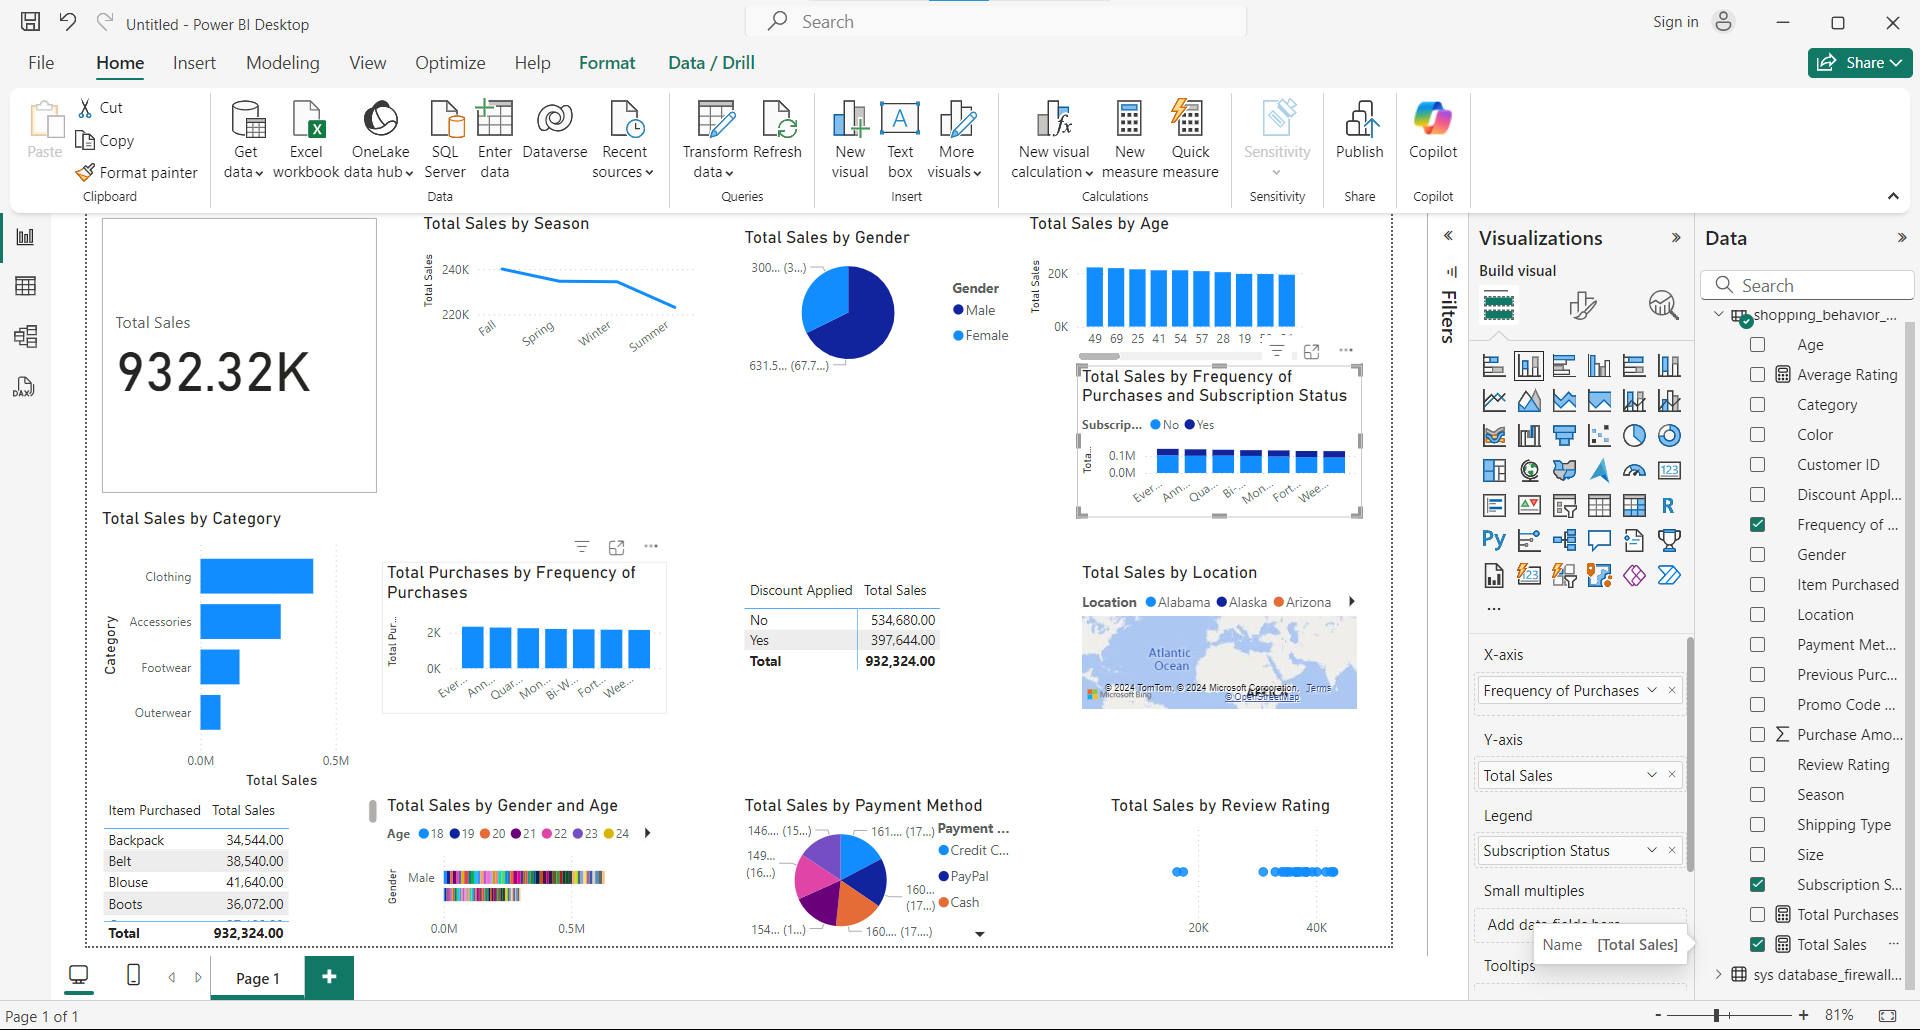

The page's visual inventory and layout, read from the dashboard file:
{"tool":"powerbi","page":{"name":"Page 1","canvas":[1280,720],"ordinal":0},"visuals":[{"type":"cardVisual","fields":{"Data":["shopping_behavior_updated.Total Sales"]},"box":[10,0,280,280],"z":0},{"type":"barChart","fields":{"Category":["shopping_behavior_updated.Category"],"Y":["shopping_behavior_updated.Total Sales"]},"box":[10,290,280,280],"z":1000},{"type":"lineChart","fields":{"Category":["shopping_behavior_updated.Season"],"Y":["shopping_behavior_updated.Total Sales"]},"box":[325.2,0,279.8,149.7],"z":2000},{"type":"pieChart","fields":{"Category":["shopping_behavior_updated.Gender"],"Y":["shopping_behavior_updated.Total Sales"]},"box":[640.5,13.5,279.8,149.7],"z":3000},{"type":"columnChart","fields":{"Y":["shopping_behavior_updated.Total Sales"],"Category":["shopping_behavior_updated.Age"]},"box":[920.3,0,279.8,149.7],"z":4000},{"type":"columnChart","fields":{"Category":["shopping_behavior_updated.Frequency of Purchases"],"Y":["shopping_behavior_updated.Total Purchases"]},"box":[289.6,342.3,279.8,149.7],"z":5000},{"type":"pivotTable","fields":{"Rows":["shopping_behavior_updated.Discount Applied"],"Values":["shopping_behavior_updated.Total Sales"]},"box":[640.5,354.6,279.8,149.7],"z":6000},{"type":"map","fields":{"Series":["shopping_behavior_updated.Location"],"Size":["shopping_behavior_updated.Total Sales"]},"box":[971.8,342.3,279.8,149.7],"z":7000},{"type":"tableEx","fields":{"Values":["shopping_behavior_updated.Item Purchased","shopping_behavior_updated.Total Sales"]},"box":[10,570,280,150],"z":8000},{"type":"barChart","fields":{"Y":["shopping_behavior_updated.Total Sales"],"Category":["shopping_behavior_updated.Gender"],"Series":["shopping_behavior_updated.Age"]},"box":[290,570,280,150],"z":9000},{"type":"pieChart","fields":{"Y":["shopping_behavior_updated.Total Sales"],"Category":["shopping_behavior_updated.Payment Method"]},"box":[640,570,280,150],"z":10000},{"type":"scatterChart","fields":{"Category":["shopping_behavior_updated.Review Rating"],"X":["shopping_behavior_updated.Total Sales"]},"box":[1000,570.6,279.8,149.7],"z":11000},{"type":"columnChart","fields":{"Category":["shopping_behavior_updated.Frequency of Purchases"],"Series":["shopping_behavior_updated.Subscription Status"],"Y":["shopping_behavior_updated.Total Sales"]},"box":[971.8,149.7,279.8,149.7],"z":12000}]}

Visuals, with their boxes on the page's 1280x720 design canvas (x1, y1, x2, y2). These are canvas units, not pixel positions in the 1920x1030 screenshot, which may show the page scaled, cropped or inside an application window:
cardVisual - shopping_behavior_updated.Total Sales: 10 0 290 280
barChart - shopping_behavior_updated.Category x shopping_behavior_updated.Total Sales: 10 290 290 570
lineChart - shopping_behavior_updated.Season x shopping_behavior_updated.Total Sales: 325 0 605 150
pieChart - shopping_behavior_updated.Gender x shopping_behavior_updated.Total Sales: 640 14 920 163
columnChart - shopping_behavior_updated.Total Sales x shopping_behavior_updated.Age: 920 0 1200 150
columnChart - shopping_behavior_updated.Frequency of Purchases x shopping_behavior_updated.Total Purchases: 290 342 569 492
pivotTable - shopping_behavior_updated.Discount Applied x shopping_behavior_updated.Total Sales: 640 355 920 504
map - shopping_behavior_updated.Location x shopping_behavior_updated.Total Sales: 972 342 1252 492
tableEx - shopping_behavior_updated.Item Purchased x shopping_behavior_updated.Total Sales: 10 570 290 720
barChart - shopping_behavior_updated.Total Sales x shopping_behavior_updated.Gender: 290 570 570 720
pieChart - shopping_behavior_updated.Total Sales x shopping_behavior_updated.Payment Method: 640 570 920 720
scatterChart - shopping_behavior_updated.Review Rating x shopping_behavior_updated.Total Sales: 1000 571 1280 720
columnChart - shopping_behavior_updated.Frequency of Purchases x shopping_behavior_updated.Subscription Status: 972 150 1252 299
